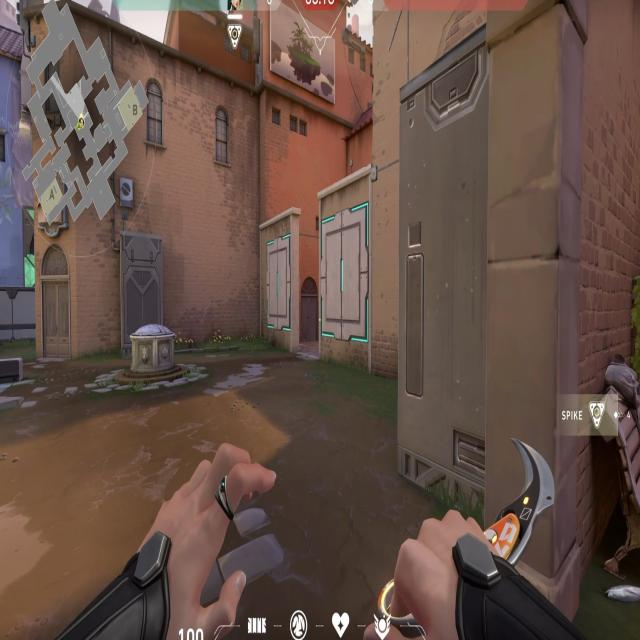Mid_Wall: (316, 197, 376, 361), (260, 224, 301, 348)
